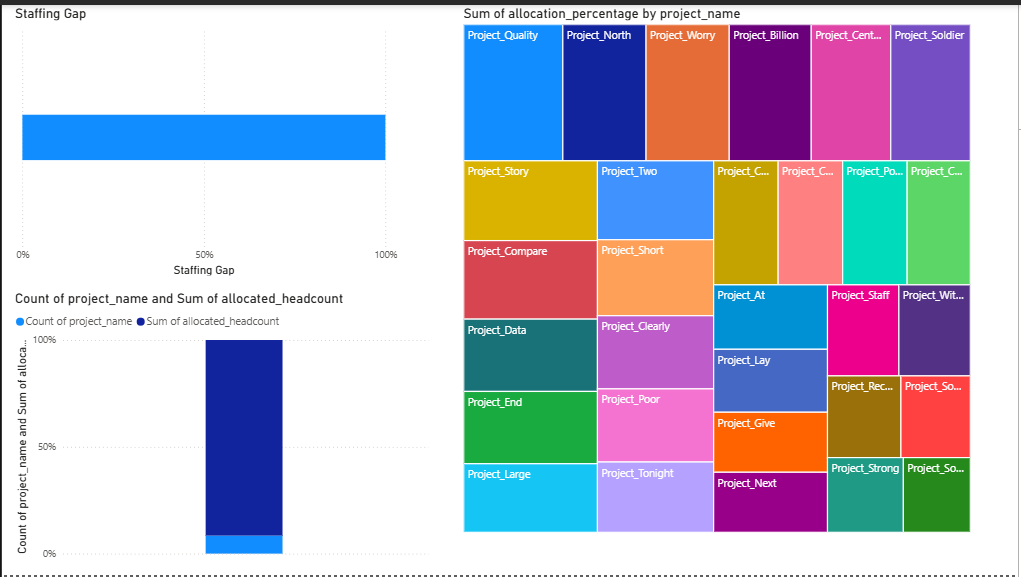

What the dashboard file says about the page in this screenshot:
{"tool":"powerbi","page":{"name":"Project Analytics","canvas":[1280,720],"ordinal":2},"visuals":[{"type":"hundredPercentStackedBarChart","fields":{"Y":["CountNonNull(public projects.project_name)"]},"box":[11.3,0,491.3,345.8],"z":0},{"type":"hundredPercentStackedColumnChart","fields":{"Y":["CountNonNull(public projects.project_name)","Sum(public projects.allocated_headcount)"]},"box":[11.3,359.1,531,345.8],"z":1},{"type":"treemap","fields":{"Group":["public projects.project_name"],"Values":["Sum(public allocations.allocation_percentage)"]},"box":[576.4,0,648.2,669],"z":2}]}

Visuals, with their boxes in screenshot pixels (x1, y1, x2, y2), scaled from the page's 1280x720 canvas onto the 1021x577 screenshot:
hundredPercentStackedBarChart - CountNonNull(public projects.project_name): {"x1": 9, "y1": 0, "x2": 401, "y2": 277}
hundredPercentStackedColumnChart - CountNonNull(public projects.project_name) x Sum(public projects.allocated_headcount): {"x1": 9, "y1": 288, "x2": 433, "y2": 565}
treemap - public projects.project_name x Sum(public allocations.allocation_percentage): {"x1": 460, "y1": 0, "x2": 977, "y2": 536}
